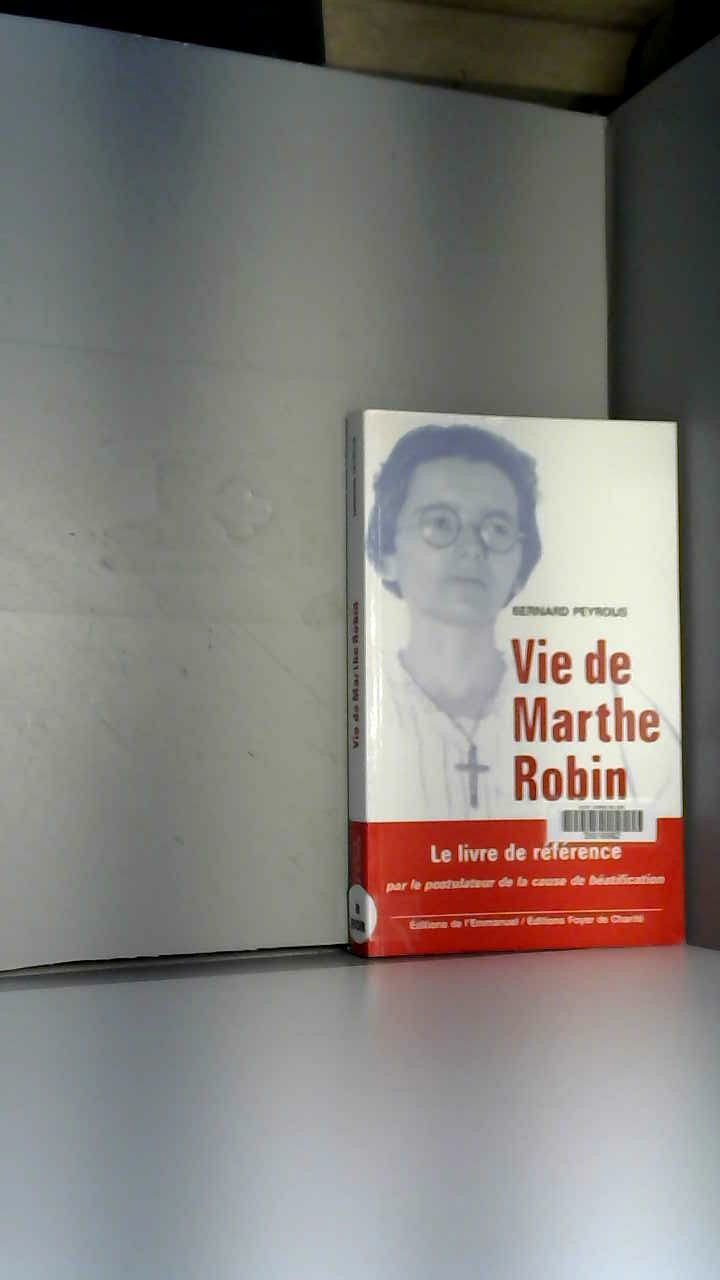book: (315, 372, 720, 1000)
